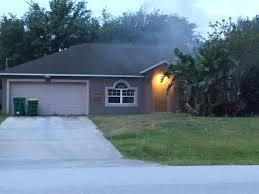fire: (151, 68, 173, 91)
